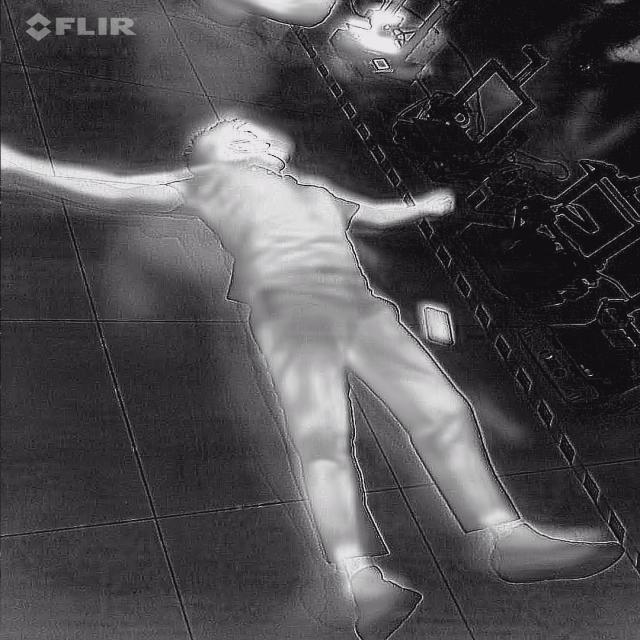Victim: (0, 111, 626, 636)
